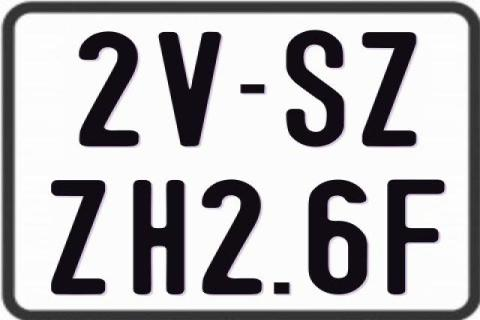0: (200, 177, 265, 292), (305, 178, 368, 296), (79, 30, 140, 146)
F: (387, 179, 448, 297)
H: (132, 179, 184, 293)
S: (285, 30, 346, 148)
V: (157, 30, 221, 146)
Z: (49, 179, 107, 295), (362, 30, 416, 150)
